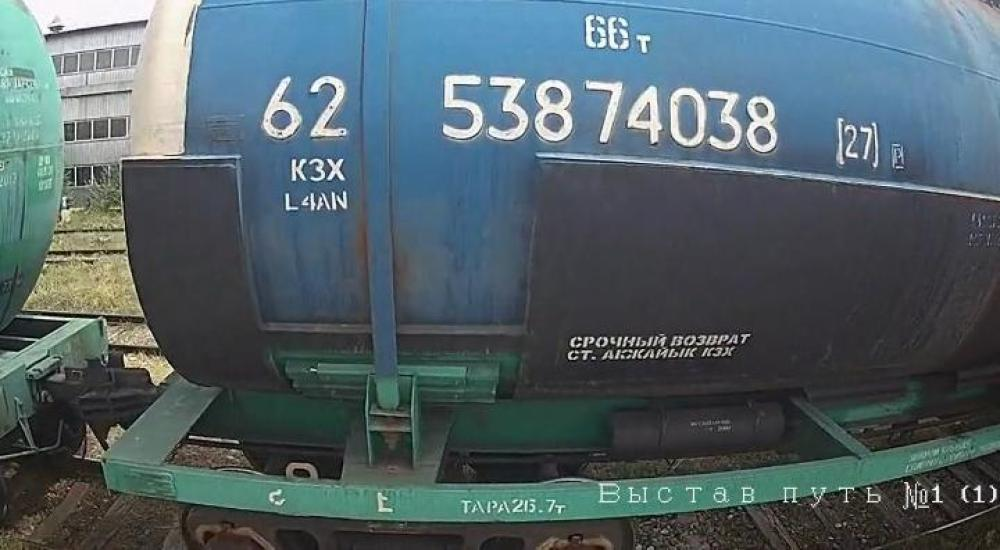Wagon-number: (437, 69, 782, 158)
